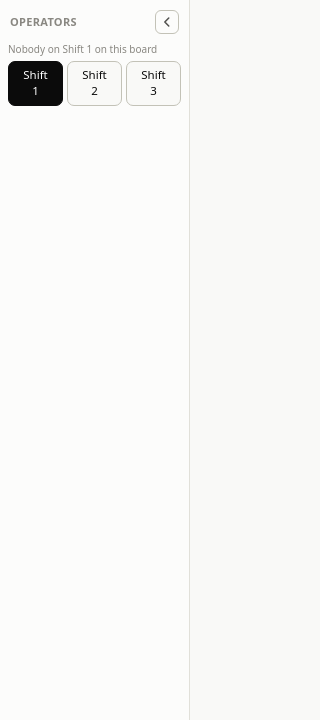
it: OperatorPanel: the shift chips and the shift-based default list (S66-c, R-448) › R-462b: toggling a second empty shift in names both -- 'Nobody on Shift 1 or Shift 2 on this board'
The width and height of the screenshot is (320, 720).
What coordinates should you click on to do the following:
click the button "Shift 2"
I would click on:
 (94, 83)
Its box is x1=67 y1=60 x2=122 y2=106.
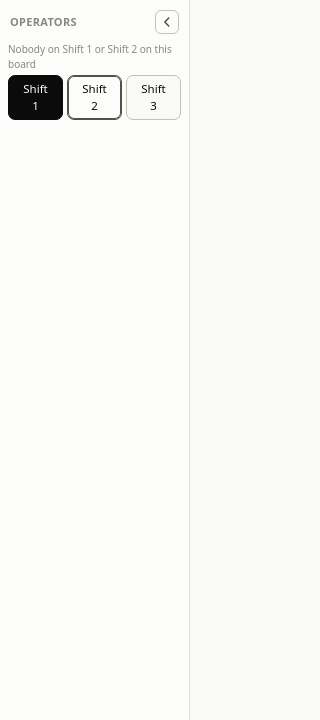
expect the text "Nobody on Shift 1 or Shift 2 on this board" is shown: met, box x1=8 y1=42 x2=181 y2=71
